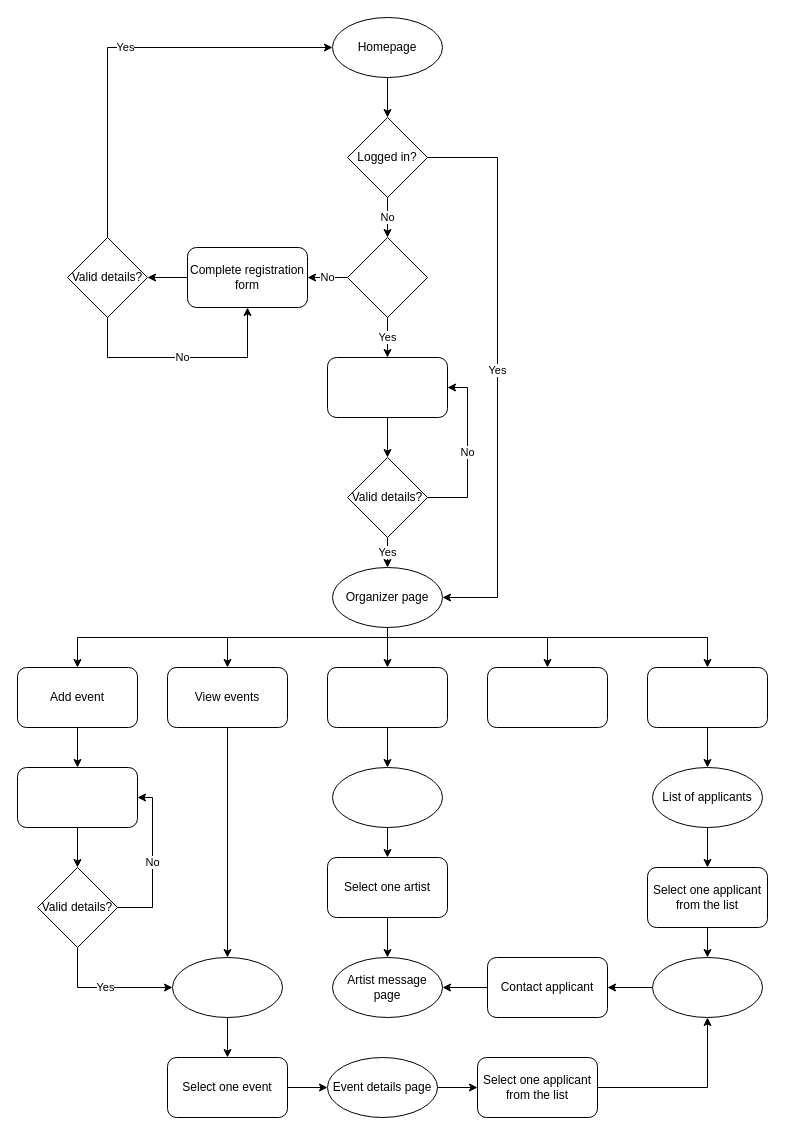
Some shapes in this 785 by 1135 pixel diagram are drawn without their labels. The box of each missing label's shape, as (x1, y1, x2, y2) in pixels:
Applicant details page: (652, 956, 762, 1018)
Complete event form: (16, 766, 138, 828)
Complete login form: (326, 356, 448, 418)
Events page: (172, 956, 282, 1018)
Messages page: (332, 766, 442, 828)
Registered?: (346, 236, 428, 318)
View messages: (326, 666, 448, 728)
View profile: (486, 666, 608, 728)
View requests: (646, 666, 768, 728)
